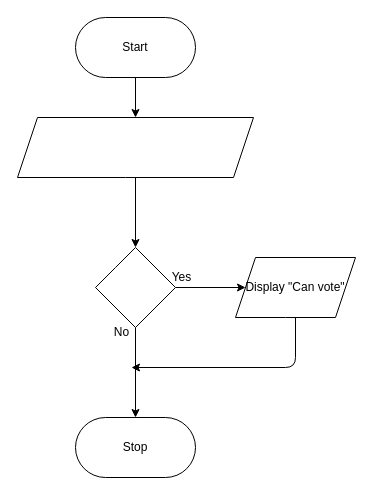
The diagram is 373 pixels wide and 495 high, and some of its shapes have lost their labels. Here are the shapes that lost their labels. From the top down, the box of each, then its label:
(16, 116, 254, 178): age = input("Enter Age")
(94, 246, 176, 328): age >= 18
